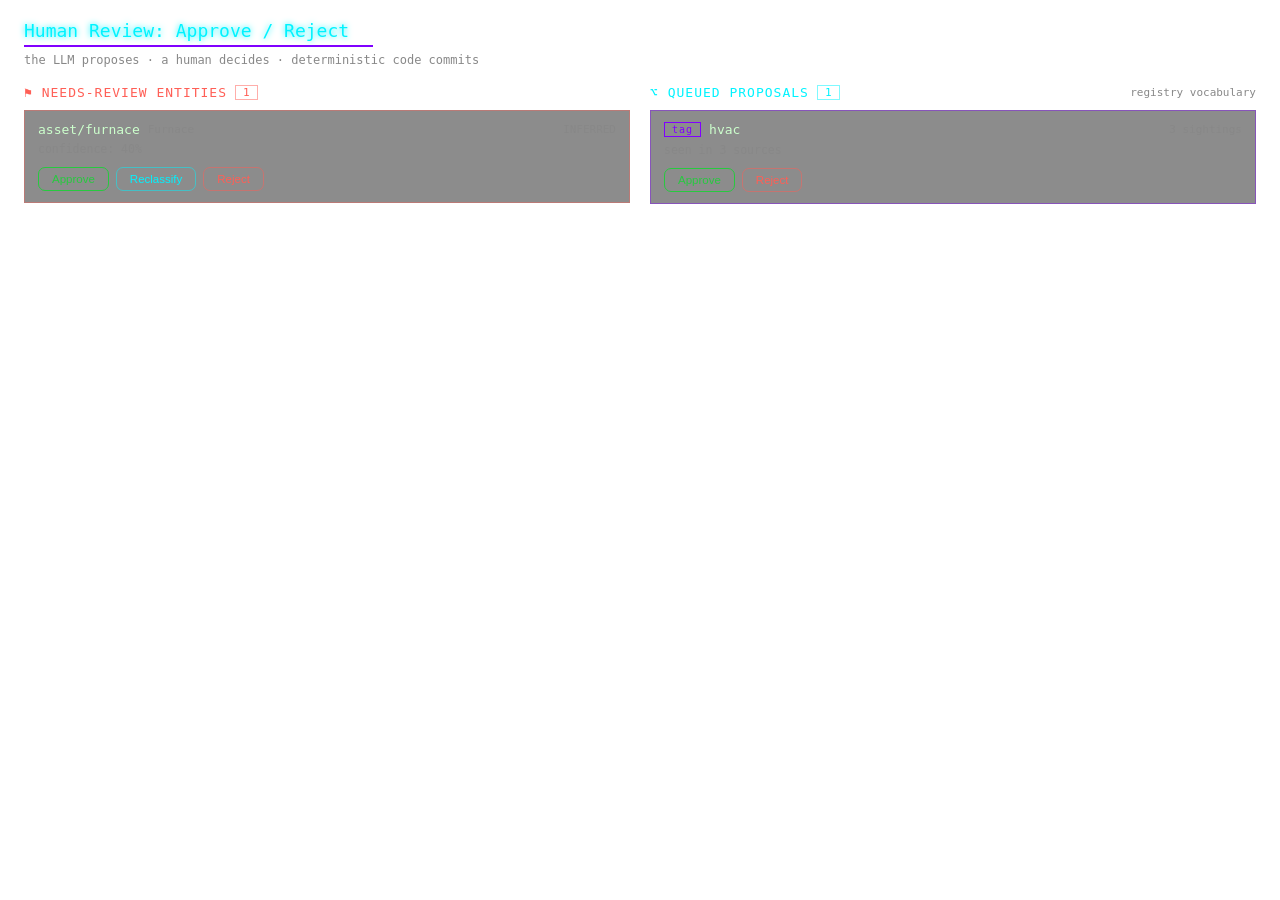
Test case: Review Screen › reclassify dialog › opens, populates the selects from /api/schema, and disables Confirm for an unchanged target
Click the button "Reclassify" at x=156, y=179, box [116,167,196,191]
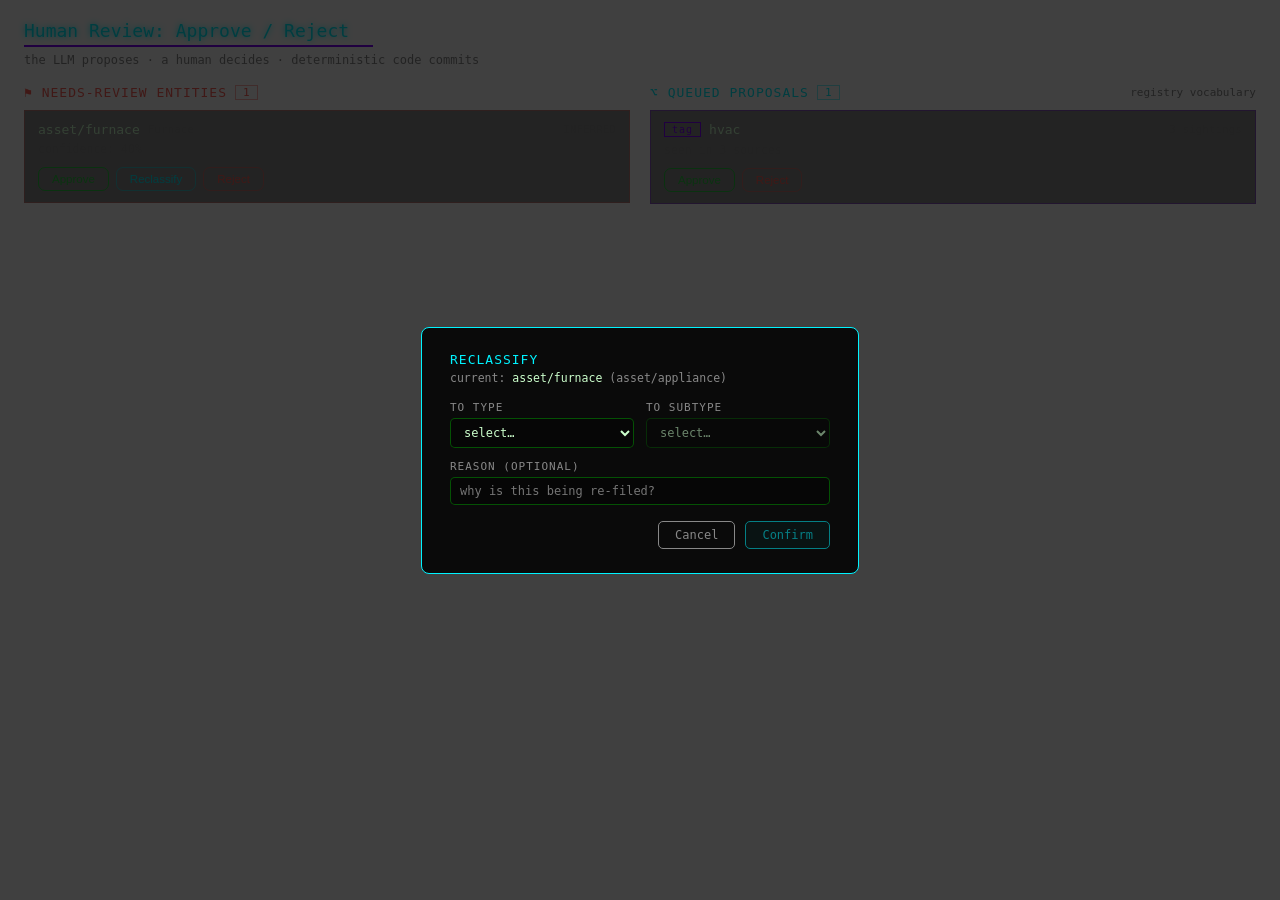
expect the button "Confirm" is disabled: met, box [745,520,830,548]
Select "asset" in the dropdown named "target type" at x=542, y=432, box [450,418,634,448]
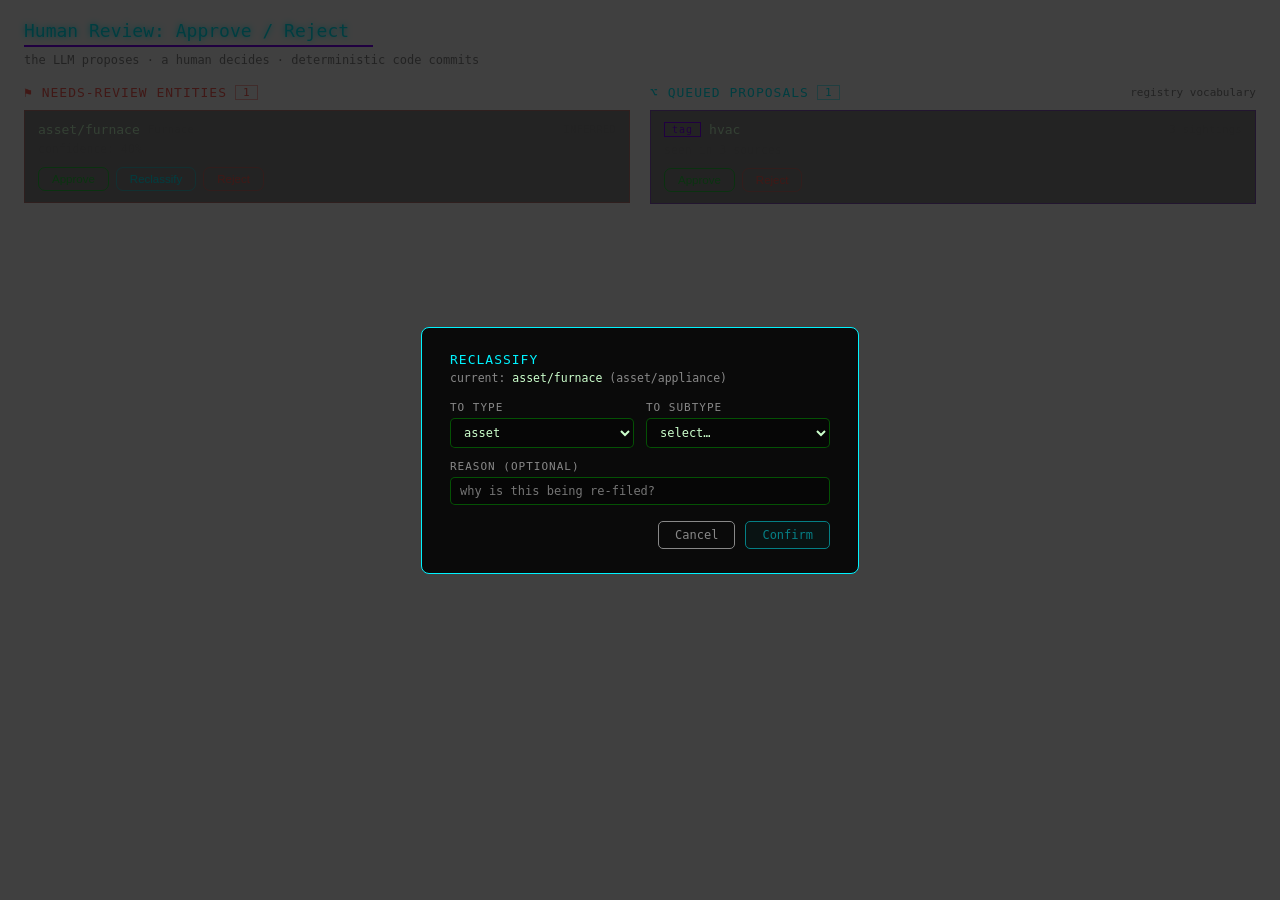
expect the option "home" is not shown: met
Select "appliance" in the dropdown named "target subtype" at x=738, y=432, box [646,418,830,448]
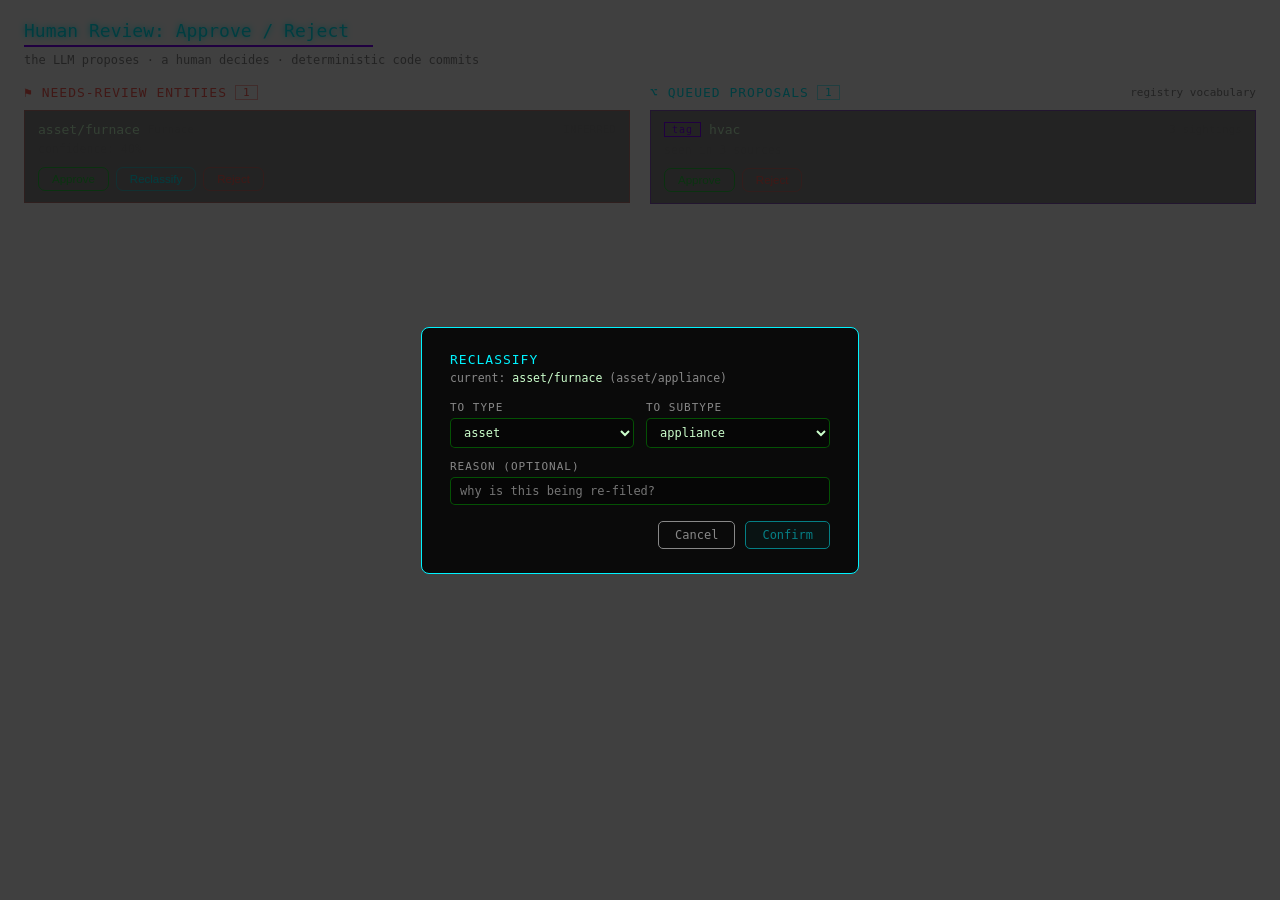
expect the button "Confirm" is disabled: met, box [745,520,830,548]
Select "property" in the dropdown named "target type" at x=542, y=432, box [450,418,634,448]
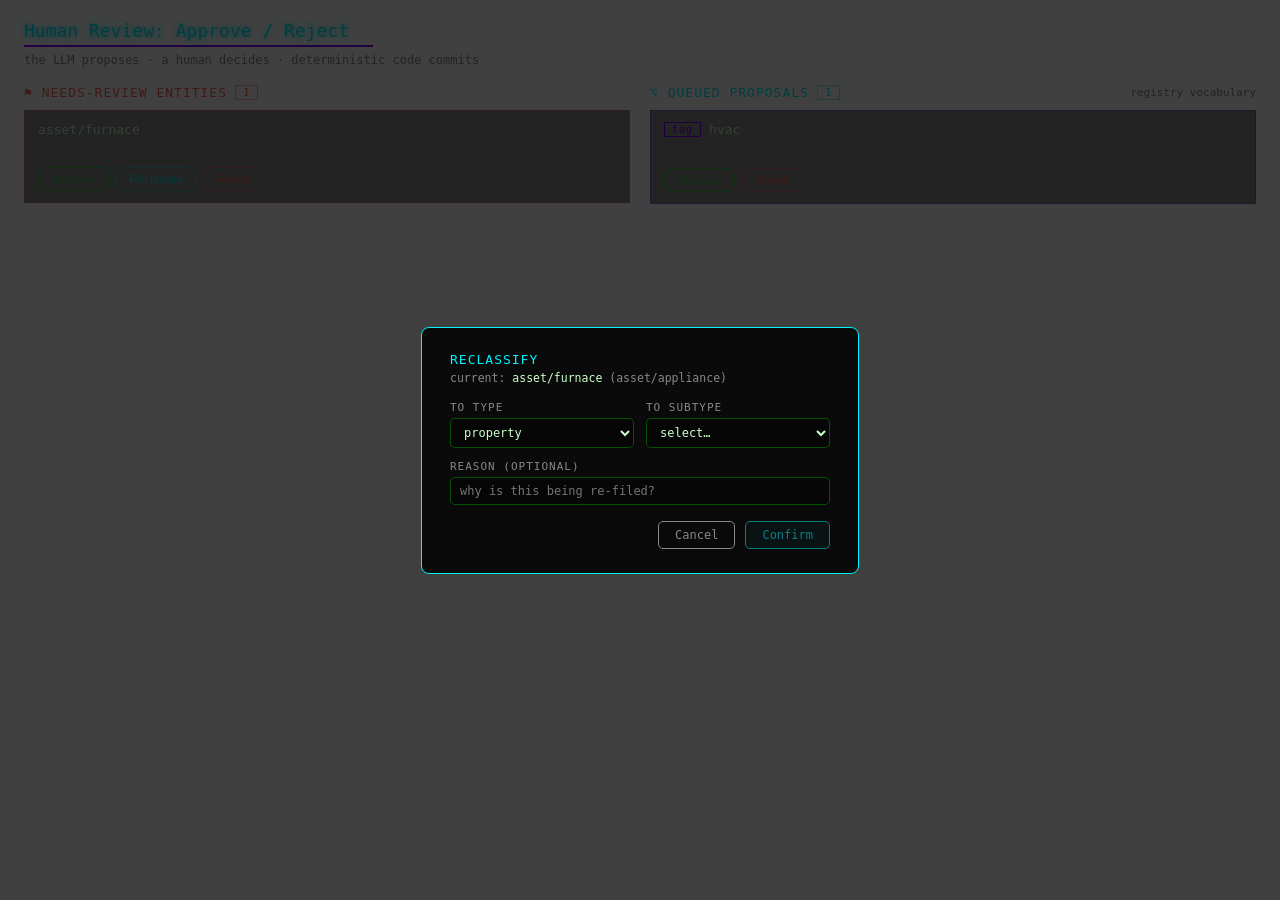
Select "home" in the dropdown named "target subtype" at x=738, y=432, box [646,418,830,448]
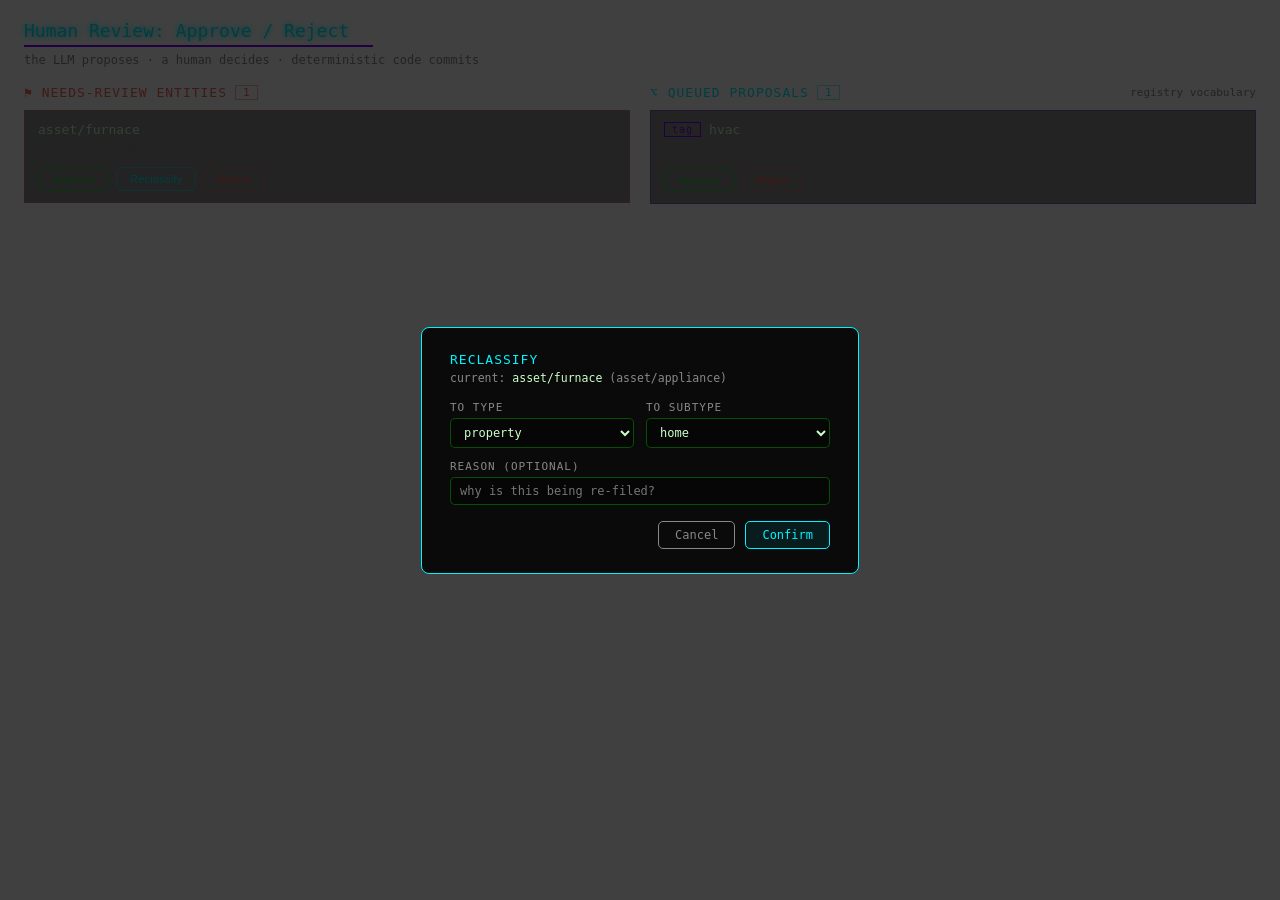
expect the button "Confirm" is enabled: met, box [745,520,830,548]
Press Escape
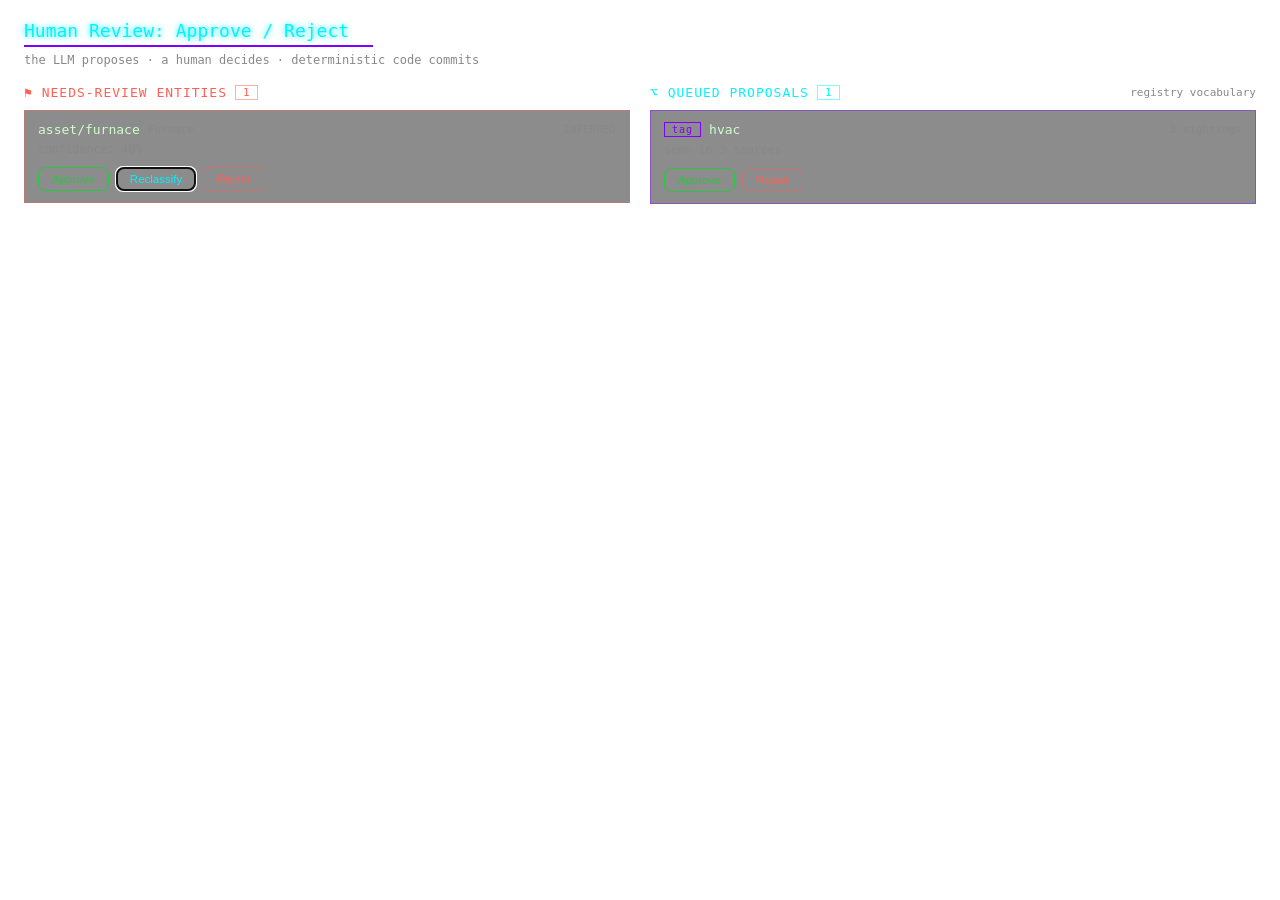
expect the dialog is gone: met
